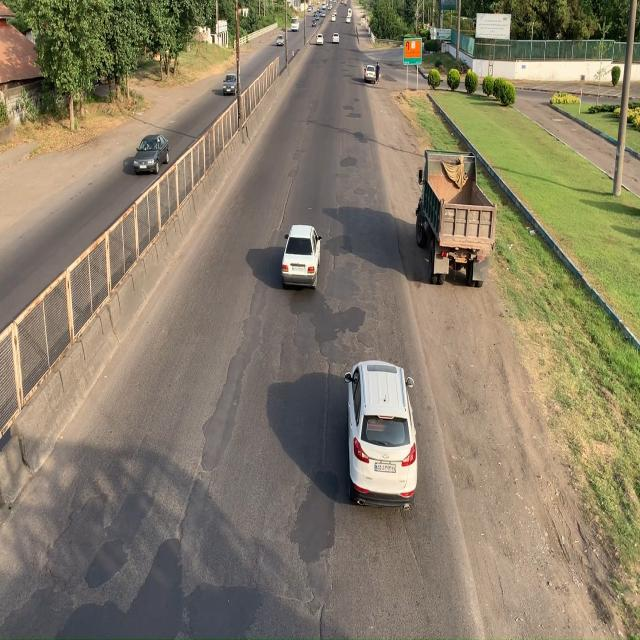Truck: (414, 148, 499, 290)
cars: (348, 360, 420, 502), (282, 220, 320, 292), (132, 131, 172, 176)
